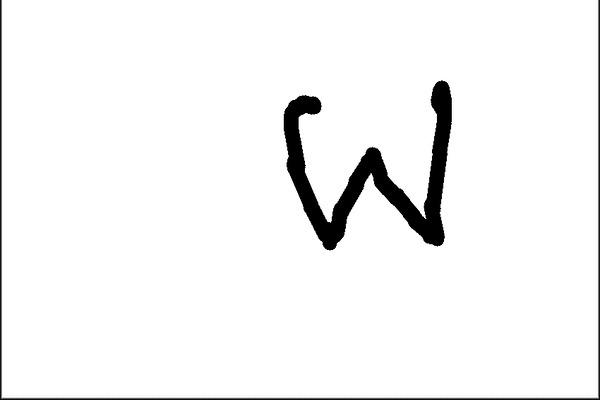w: (266, 70, 481, 263)
